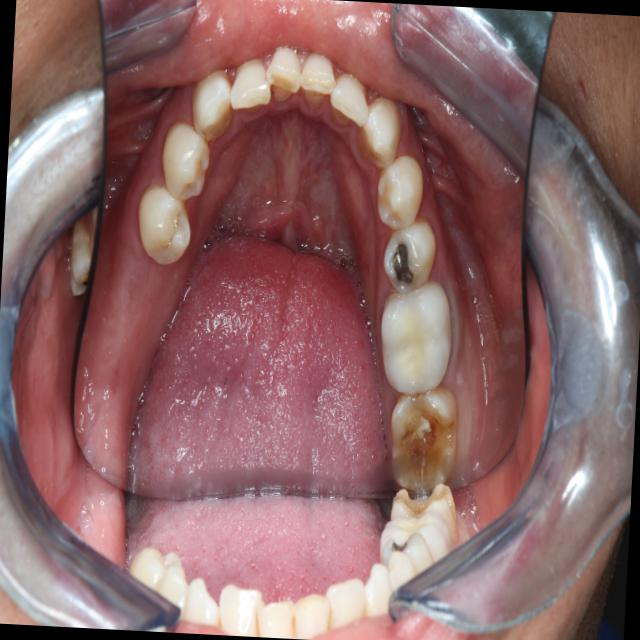tooth: (369, 267, 461, 400), (377, 380, 469, 500), (132, 179, 200, 276), (376, 207, 441, 297), (154, 115, 215, 209), (370, 147, 429, 236), (185, 60, 242, 149), (353, 88, 409, 175), (226, 49, 279, 124), (262, 39, 306, 109), (327, 69, 373, 135), (296, 45, 339, 110)
